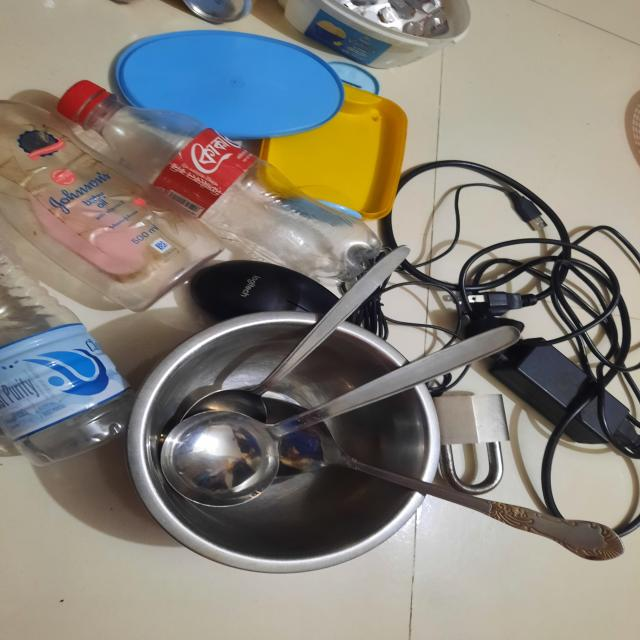Cable: (414, 152, 640, 582)
Metal: (117, 252, 484, 594)
Plastics: (2, 0, 403, 242)
